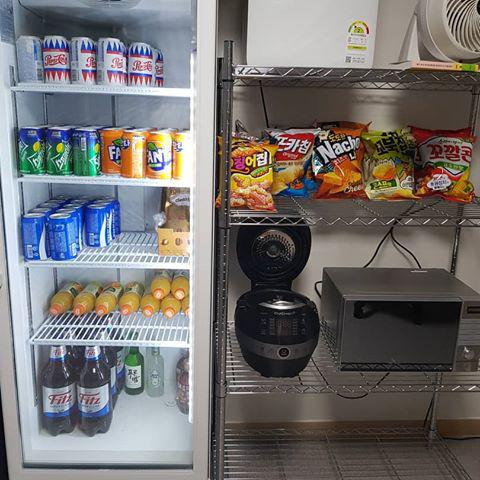soju: (116, 334, 147, 401)
